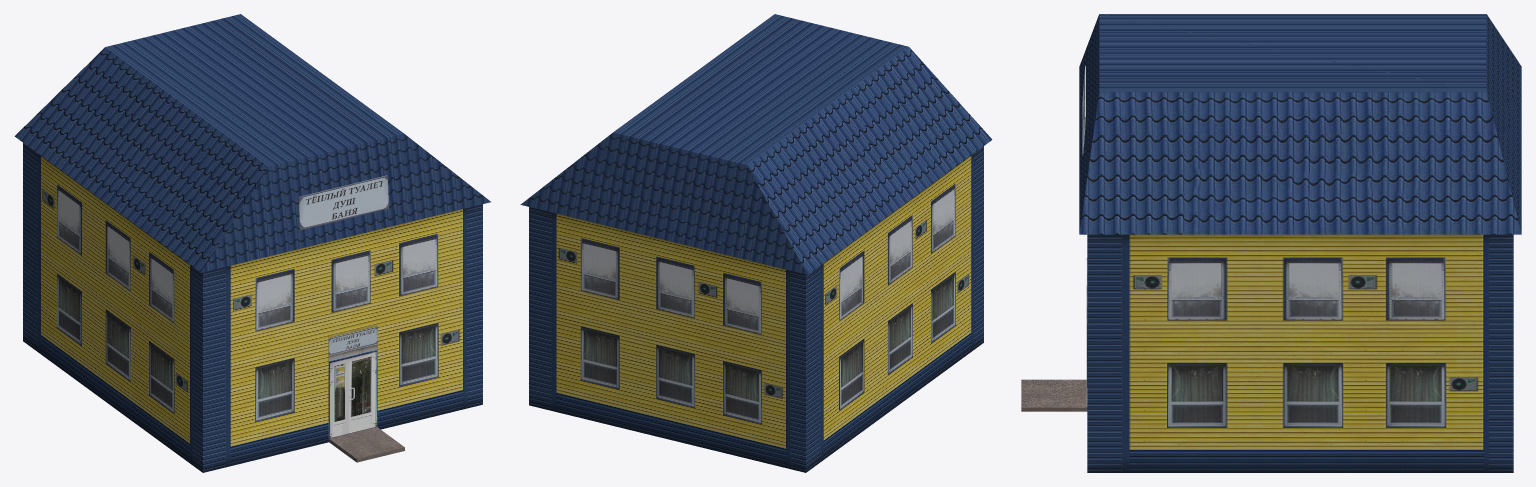
The model's file is r402_tualet_uyut.FBX.
3 renders of one model, left to right at view 1: azimuth 30°, elevation 25°; view 2: azimuth 150°, elevation 25°; view 3: azimuth 270°, elevation 25°, orthographic. The views are drawn at different scales.
Visible parts, largest first — view 1: r402_tualet_uyut; view 2: r402_tualet_uyut; view 3: r402_tualet_uyut.
Boxes of the visible parts, box(x1,y1,x2,y2) form: r402_tualet_uyut: box(14, 14, 490, 472); r402_tualet_uyut: box(520, 14, 992, 472); r402_tualet_uyut: box(1021, 14, 1521, 472).
Size of the model in its own units: 746 by 939 by 700.
